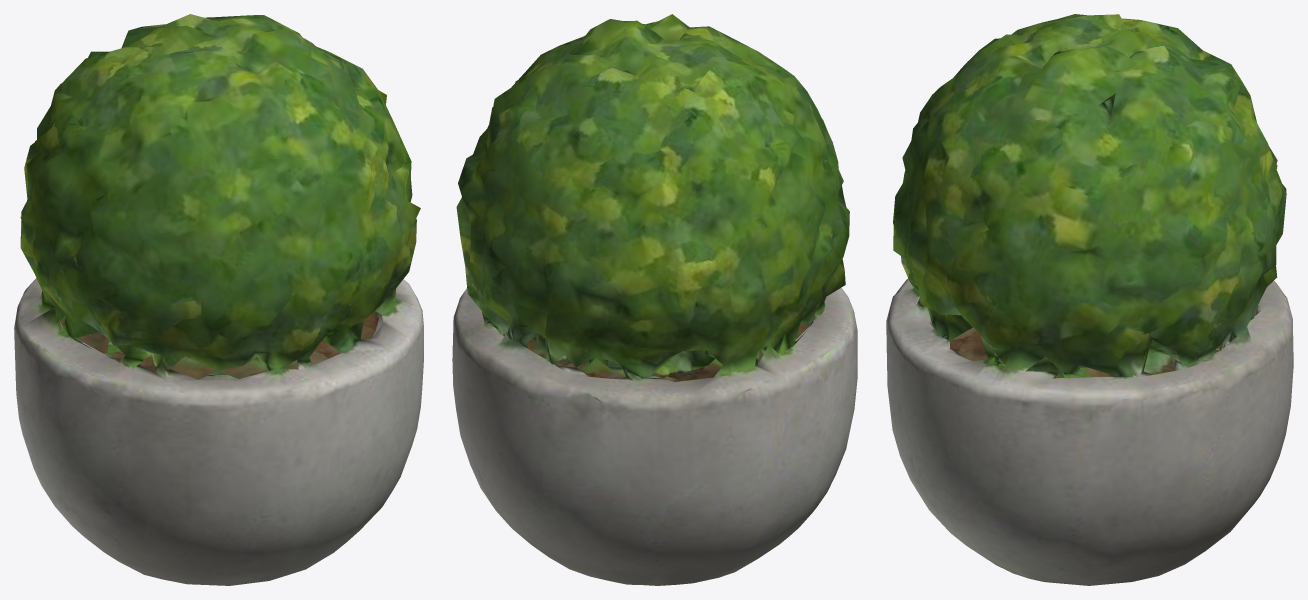
File: planter.glb
3 renders of one model, left to right at view 1: azimuth 30°, elevation 25°; view 2: azimuth 150°, elevation 25°; view 3: azimuth 270°, elevation 25°, orthographic.
Bounding box in the file's own units: 0.7479 × 1.02 × 0.7462.
1 material, 1 textured.
